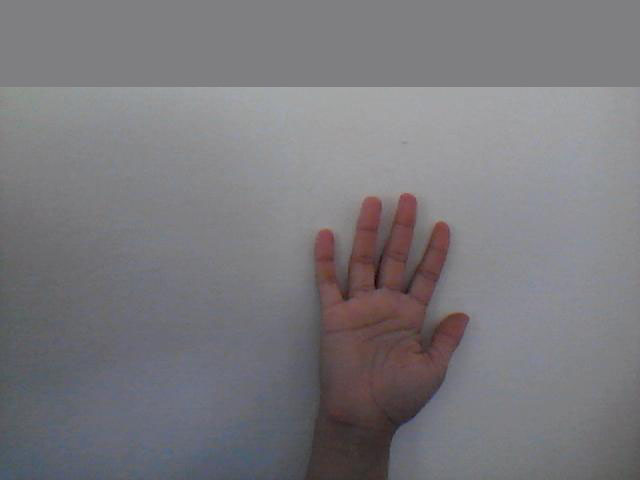hand: (297, 180, 480, 421)
